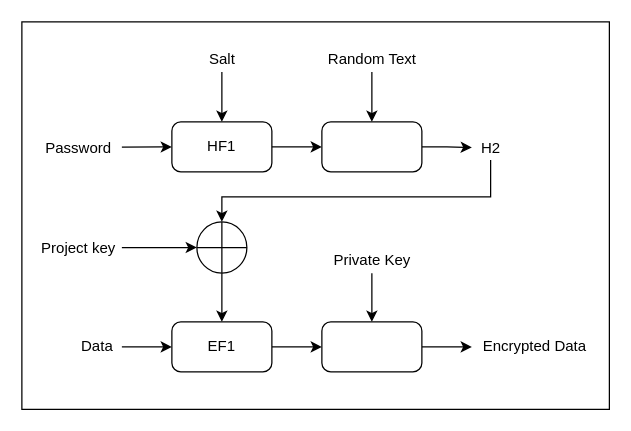
The diagram is 631 pixels wide and 431 high, and some of its shapes have lost their labels. Here are the shapes that lost their labels. From the top down, the centre of each, then its label:
At [371,146]: "HF2".
At [371,346]: "EF2".
